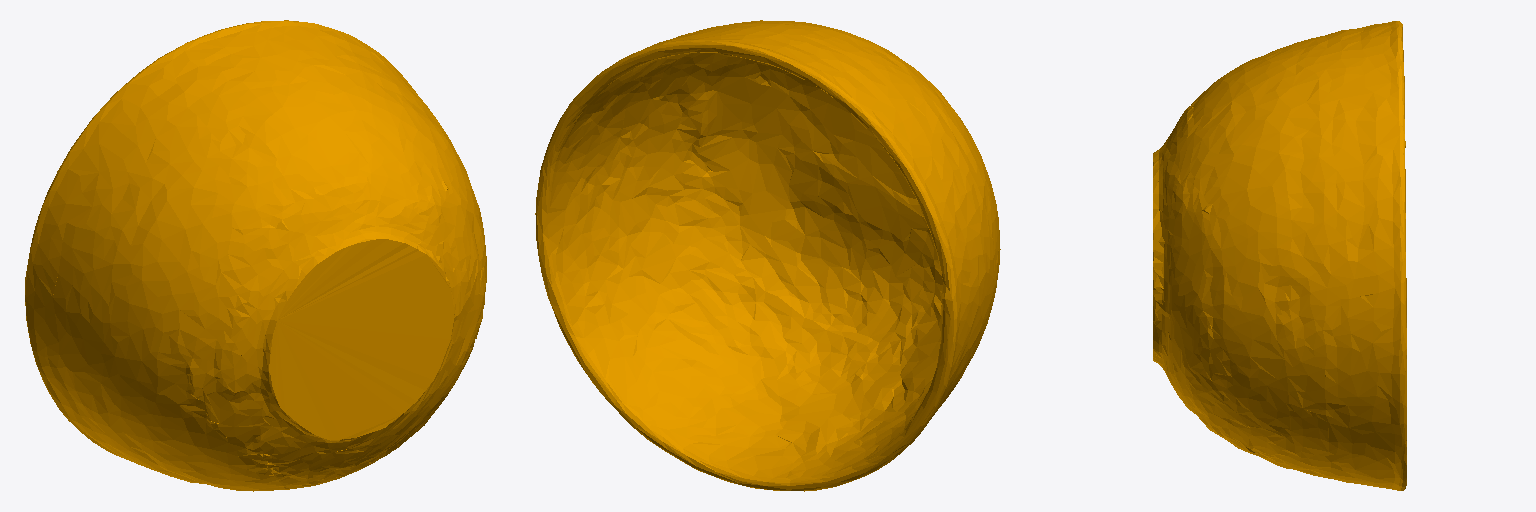
URDF robot description (bowl):
<?xml version="1.0" ?>
<!-- auto-generated by gen_object_urdf.py (TactiDex import) -->
<robot name="bowl">
  <link name="bottom">
    <inertial>
      <origin rpy="0 0 0" xyz="-0.00054823453 0.0084951989 0.00093013025"/>
      <mass value="0.3"/>
      <inertia ixx="0.00047458845" ixy="-8.4007247e-07" ixz="1.6608534e-06"
               iyy="0.00067450254" iyz="-1.2791924e-07" izz="0.00047440901"/>
    </inertial>
    <visual>
      <origin rpy="0 0 0" xyz="0 0 0"/>
      <geometry><mesh filename="Bowl.obj" scale="1 1 1"/></geometry>
    </visual>
      <collision>
        <origin rpy="0 0 0" xyz="0 0 0"/>
        <geometry><mesh filename="collision_parts/part_000.obj" scale="1 1 1"/></geometry>
      </collision>
      <collision>
        <origin rpy="0 0 0" xyz="0 0 0"/>
        <geometry><mesh filename="collision_parts/part_001.obj" scale="1 1 1"/></geometry>
      </collision>
      <collision>
        <origin rpy="0 0 0" xyz="0 0 0"/>
        <geometry><mesh filename="collision_parts/part_002.obj" scale="1 1 1"/></geometry>
      </collision>
      <collision>
        <origin rpy="0 0 0" xyz="0 0 0"/>
        <geometry><mesh filename="collision_parts/part_003.obj" scale="1 1 1"/></geometry>
      </collision>
      <collision>
        <origin rpy="0 0 0" xyz="0 0 0"/>
        <geometry><mesh filename="collision_parts/part_004.obj" scale="1 1 1"/></geometry>
      </collision>
      <collision>
        <origin rpy="0 0 0" xyz="0 0 0"/>
        <geometry><mesh filename="collision_parts/part_005.obj" scale="1 1 1"/></geometry>
      </collision>
      <collision>
        <origin rpy="0 0 0" xyz="0 0 0"/>
        <geometry><mesh filename="collision_parts/part_006.obj" scale="1 1 1"/></geometry>
      </collision>
      <collision>
        <origin rpy="0 0 0" xyz="0 0 0"/>
        <geometry><mesh filename="collision_parts/part_007.obj" scale="1 1 1"/></geometry>
      </collision>
      <collision>
        <origin rpy="0 0 0" xyz="0 0 0"/>
        <geometry><mesh filename="collision_parts/part_008.obj" scale="1 1 1"/></geometry>
      </collision>
      <collision>
        <origin rpy="0 0 0" xyz="0 0 0"/>
        <geometry><mesh filename="collision_parts/part_009.obj" scale="1 1 1"/></geometry>
      </collision>
      <collision>
        <origin rpy="0 0 0" xyz="0 0 0"/>
        <geometry><mesh filename="collision_parts/part_010.obj" scale="1 1 1"/></geometry>
      </collision>
      <collision>
        <origin rpy="0 0 0" xyz="0 0 0"/>
        <geometry><mesh filename="collision_parts/part_011.obj" scale="1 1 1"/></geometry>
      </collision>
      <collision>
        <origin rpy="0 0 0" xyz="0 0 0"/>
        <geometry><mesh filename="collision_parts/part_012.obj" scale="1 1 1"/></geometry>
      </collision>
      <collision>
        <origin rpy="0 0 0" xyz="0 0 0"/>
        <geometry><mesh filename="collision_parts/part_013.obj" scale="1 1 1"/></geometry>
      </collision>
      <collision>
        <origin rpy="0 0 0" xyz="0 0 0"/>
        <geometry><mesh filename="collision_parts/part_014.obj" scale="1 1 1"/></geometry>
      </collision>
      <collision>
        <origin rpy="0 0 0" xyz="0 0 0"/>
        <geometry><mesh filename="collision_parts/part_015.obj" scale="1 1 1"/></geometry>
      </collision>
      <collision>
        <origin rpy="0 0 0" xyz="0 0 0"/>
        <geometry><mesh filename="collision_parts/part_016.obj" scale="1 1 1"/></geometry>
      </collision>
      <collision>
        <origin rpy="0 0 0" xyz="0 0 0"/>
        <geometry><mesh filename="collision_parts/part_017.obj" scale="1 1 1"/></geometry>
      </collision>
      <collision>
        <origin rpy="0 0 0" xyz="0 0 0"/>
        <geometry><mesh filename="collision_parts/part_018.obj" scale="1 1 1"/></geometry>
      </collision>
      <collision>
        <origin rpy="0 0 0" xyz="0 0 0"/>
        <geometry><mesh filename="collision_parts/part_019.obj" scale="1 1 1"/></geometry>
      </collision>
      <collision>
        <origin rpy="0 0 0" xyz="0 0 0"/>
        <geometry><mesh filename="collision_parts/part_020.obj" scale="1 1 1"/></geometry>
      </collision>
      <collision>
        <origin rpy="0 0 0" xyz="0 0 0"/>
        <geometry><mesh filename="collision_parts/part_021.obj" scale="1 1 1"/></geometry>
      </collision>
      <collision>
        <origin rpy="0 0 0" xyz="0 0 0"/>
        <geometry><mesh filename="collision_parts/part_022.obj" scale="1 1 1"/></geometry>
      </collision>
      <collision>
        <origin rpy="0 0 0" xyz="0 0 0"/>
        <geometry><mesh filename="collision_parts/part_023.obj" scale="1 1 1"/></geometry>
      </collision>
  </link>
</robot>

--- Facts derived from the render (not from the file) ---
3 views of the same robot in one strip: view 1: azimuth 30°, elevation 25°; view 2: azimuth 150°, elevation 25°; view 3: azimuth 270°, elevation 25° (orthographic).
Model bowl with 1 links and 0 joints (none), rooted at bottom, posed every joint at zero.
Links seen in each view (by area): view 1: bottom; view 2: bottom; view 3: bottom.
Boxes of the visible links, x1,y1,x2,y2 form: bottom: (25,20,486,491); bottom: (535,20,1000,491); bottom: (1153,21,1406,490).
Size in the robot's own frame: 0.1501 by 0.0817 by 0.1505 metres.
1 mesh visuals loaded from 1 distinct referenced files (1 OBJ).
